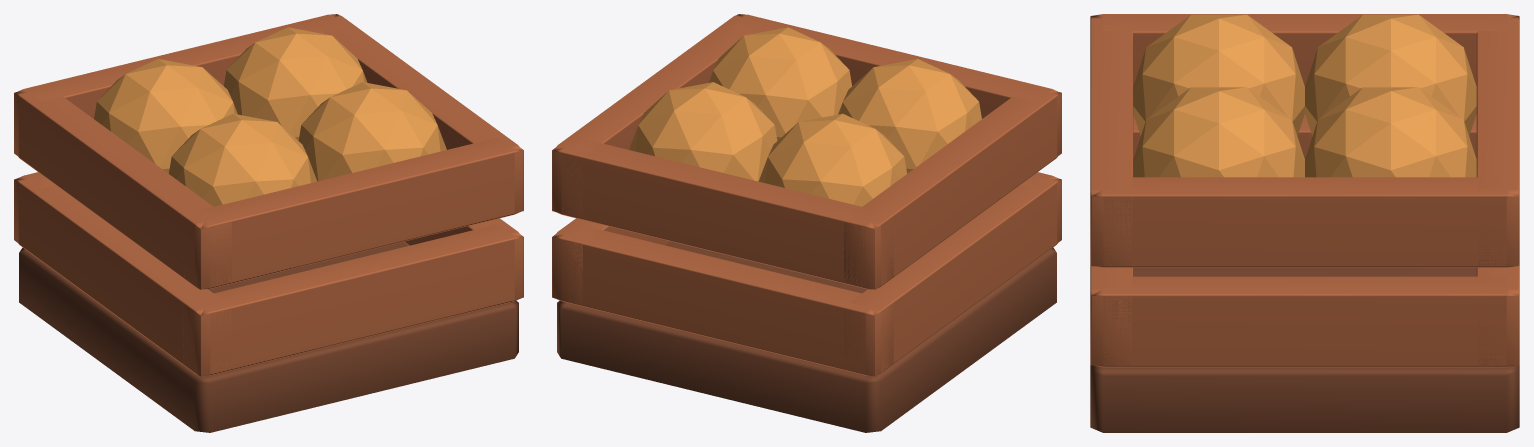
The model's file is food_crate.glb.
3 views of the same model, side by side, from view 1: azimuth 30°, elevation 25°; view 2: azimuth 150°, elevation 25°; view 3: azimuth 270°, elevation 25° (orthographic). The views are drawn at different scales.
Parts seen in each view (by area): view 1: Crate base.005, Slatted crate.041, Slatted crate.043, Slatted crate.042, Slatted crate.040, Crate contents.017, Crate contents.019, Crate contents.018, Crate contents.016, Slatted crate.046, Slatted crate.047, Slatted crate.044 (+1 smaller); view 2: Crate base.005, Slatted crate.045, Slatted crate.047, Slatted crate.042, Slatted crate.040, Crate contents.019, Crate contents.017, Crate contents.016, Crate contents.018, Slatted crate.046, Slatted crate.043, Slatted crate.044 (+1 smaller); view 3: Slatted crate.044, Slatted crate.046, Crate base.005, Crate contents.017, Crate contents.019, Crate contents.016, Crate contents.018, Slatted crate.043, Slatted crate.047, Slatted crate.042, Slatted crate.041, Slatted crate.045 (+1 smaller).
Part boxes in pixels (x1,y1,x2,y2): Crate base.005: (19, 241, 518, 432); Slatted crate.041: (182, 224, 523, 376); Slatted crate.043: (184, 138, 523, 289); Slatted crate.042: (14, 92, 231, 289); Slatted crate.040: (14, 176, 231, 376); Crate contents.017: (298, 82, 446, 181); Crate contents.019: (224, 27, 367, 140); Crate contents.018: (94, 59, 237, 173); Crate contents.016: (169, 113, 317, 206); Slatted crate.046: (312, 14, 523, 212); Slatted crate.047: (14, 14, 344, 156); Slatted crate.044: (404, 218, 523, 299); Crate base.005: (557, 241, 1056, 432); Slatted crate.045: (552, 226, 893, 376); Slatted crate.047: (552, 138, 893, 289); Slatted crate.042: (844, 92, 1061, 289); Slatted crate.040: (844, 176, 1061, 376); Crate contents.019: (629, 82, 777, 181); Crate contents.017: (708, 27, 851, 140); Crate contents.016: (838, 59, 981, 173); Crate contents.018: (758, 113, 906, 206); Slatted crate.046: (552, 14, 763, 217); Slatted crate.043: (730, 14, 1061, 156); Slatted crate.044: (552, 218, 671, 304); Slatted crate.044: (1090, 276, 1519, 367); Slatted crate.046: (1090, 177, 1519, 267); Crate base.005: (1090, 267, 1519, 432); Crate contents.017: (1133, 87, 1304, 177); Crate contents.019: (1305, 87, 1476, 177); Crate contents.016: (1133, 14, 1304, 136); Crate contents.018: (1305, 14, 1476, 136); Slatted crate.043: (1090, 15, 1133, 266); Slatted crate.047: (1476, 15, 1519, 266); Slatted crate.042: (1090, 14, 1519, 86); Slatted crate.041: (1090, 265, 1133, 365); Slatted crate.045: (1476, 265, 1519, 365).
Bounding box in the file's own units: 0.9 × 0.669 × 0.9.
